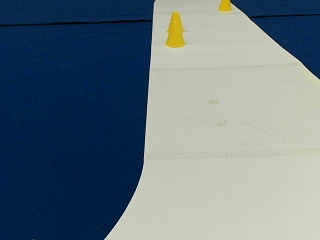cone: (165, 9, 185, 47), (218, 0, 231, 10)
